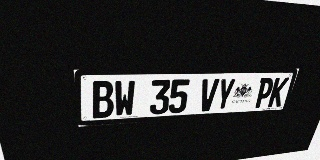3: (150, 80, 171, 115)
5: (168, 79, 190, 114)
B: (91, 81, 114, 118)
K: (267, 77, 289, 107)
P: (253, 78, 275, 108)
V: (198, 79, 220, 112)
W: (114, 80, 135, 117)
Y: (214, 78, 236, 111)
